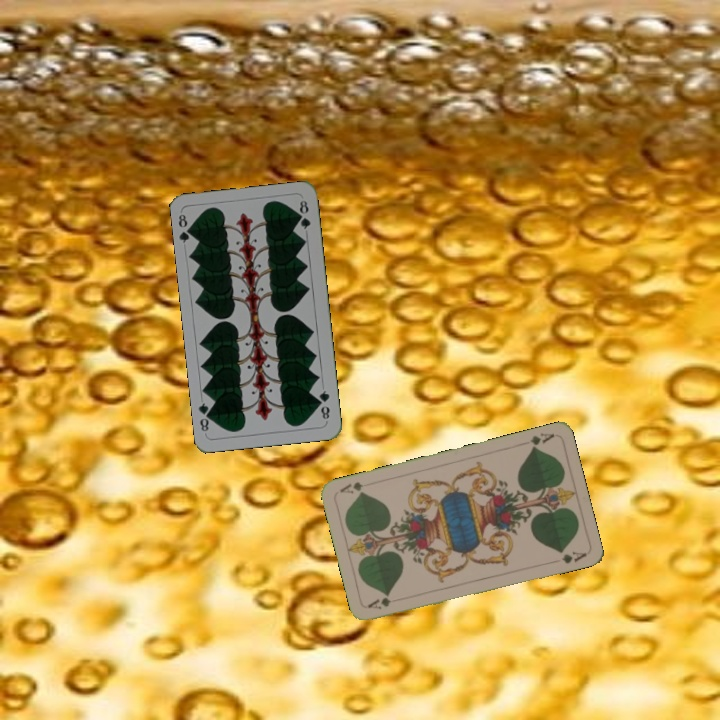G8: (174, 210, 196, 245), (314, 386, 332, 422)
GA: (526, 429, 557, 452), (364, 593, 393, 612)
